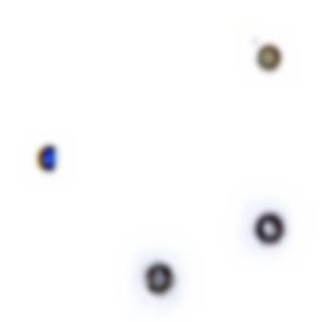cancer: (123, 240, 197, 311), (232, 190, 298, 261)
normal: (240, 27, 293, 82), (31, 138, 73, 181)
